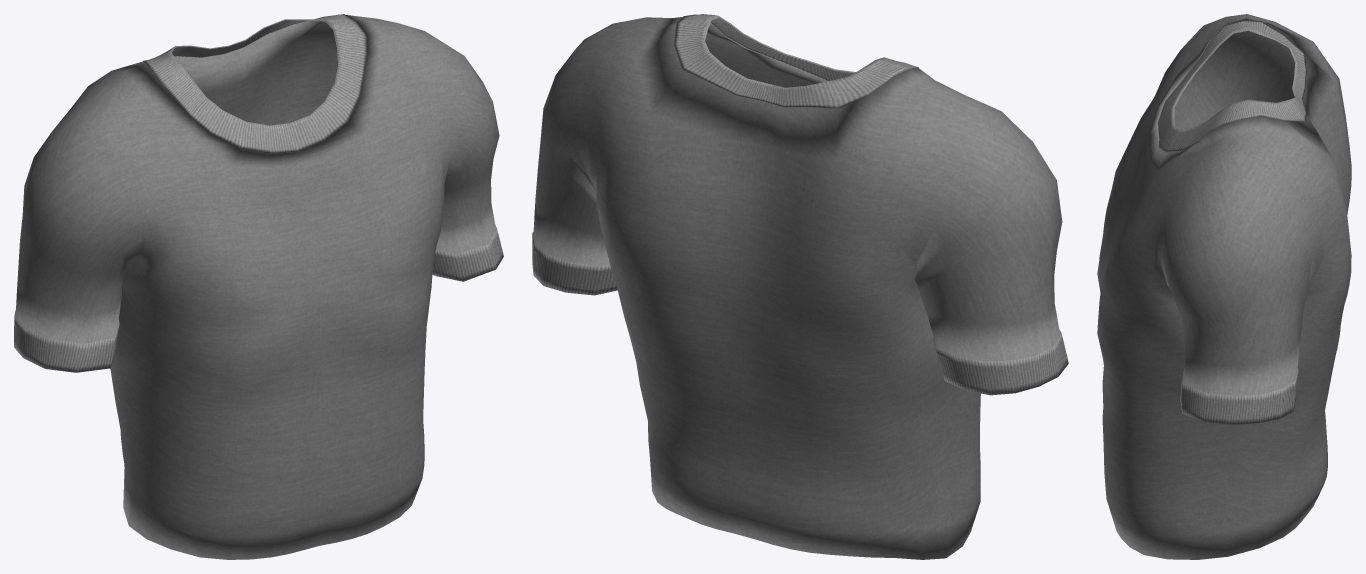
The model's file is top_tucked_tee.gltf.
3 renders of one model, left to right at view 1: azimuth 30°, elevation 25°; view 2: azimuth 150°, elevation 25°; view 3: azimuth 270°, elevation 25°, orthographic. The views are drawn at different scales.
Parts seen in each view (by area): view 1: top_tucked_tee; view 2: top_tucked_tee; view 3: top_tucked_tee.
Part boxes in pixels (<box>): top_tucked_tee: <box>14,14,503,559</box>; top_tucked_tee: <box>532,14,1068,559</box>; top_tucked_tee: <box>1097,14,1351,559</box>.
Bounding box in the file's own units: 0.5088 × 0.4726 × 0.2449.
1 material, 1 textured.
